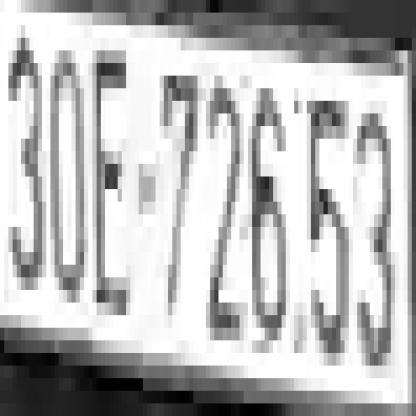0: (50, 50, 88, 290)
2: (206, 88, 239, 328)
3: (353, 113, 391, 353), (8, 38, 42, 290)
5: (307, 101, 344, 340)
6: (248, 88, 286, 328)
7: (160, 76, 198, 290)
E: (96, 51, 134, 302)
